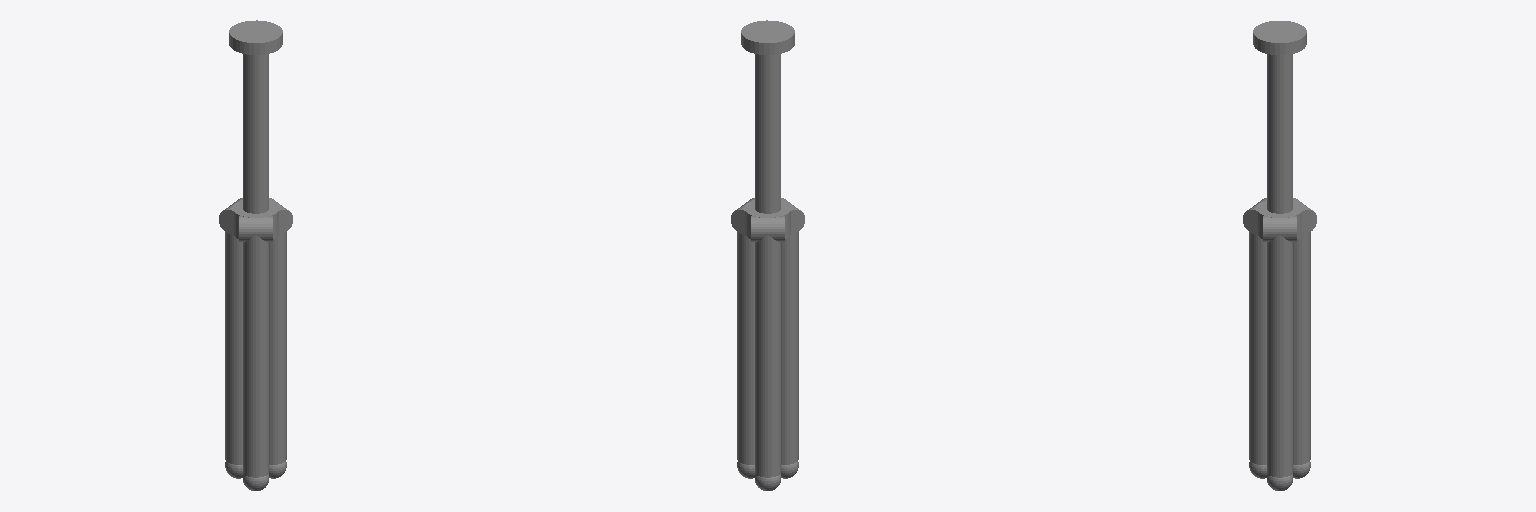
The robot description file, URDF, robot "tripod":
<?xml version="1.0"?>
<robot name="tripod">

  <!-- Base -->
  <link name="base_link">
    <visual>
      <geometry>
        <cylinder length="0.04" radius="0.035"/>
      </geometry>
      <origin xyz="0 0 0" rpy="0 0 0"/>
      <material name="gray">
        <color rgba="0.6 0.6 0.6 1"/>
      </material>
    </visual>
    <collision>
      <geometry>
        <cylinder length="0.04" radius="0.035"/>
      </geometry>
      <origin xyz="0 0 0" rpy="0 0 0"/>
    </collision>
  </link>

  <link name="aux_link">
    <visual>
      <geometry>
        <cylinder length="0.3" radius="0.02"/>
      </geometry>
      <origin xyz="0 0 0.15" rpy="0 0 0"/>
      <material name="gray"/>
    </visual>
  </link>

  <joint name="aux_link_joint" type="fixed">
    <parent link="base_link"/>
    <child link="aux_link"/>
    <origin xyz="0 0 0" rpy="0 0 0"/>
  </joint>

  <link name="aux_link1">
    <visual>
      <geometry>
        <cylinder length="0.02" radius="0.04"/>
      </geometry>
      <origin xyz="0 0 0.3" rpy="0 0 0"/>
      <material name="gray"/>
    </visual>
  </link>

  <joint name="aux_link_joint1" type="fixed">
    <parent link="aux_link"/>
    <child link="aux_link1"/>
    <origin xyz="0 0 0" rpy="0 0 0"/>
  </joint>

  <!-- ========= LEG 1 ========= -->
  <link name="leg1_joint_base">
    <visual>
      <geometry>
        <cylinder length="0.05" radius="0.02"/>
      </geometry>
      <origin xyz="0 0 0" rpy="1.57 0 0"/>
      <material name="gray"/>
    </visual>
  </link>

  <joint name="leg1_joint" type="revolute">
    <parent link="base_link"/>
    <child link="leg1_joint_base"/>
    <origin xyz="0.03 0 0" rpy="0 0 3.1415"/>
    <axis xyz="0 1 0"/>
    <limit effort="1" velocity="1" lower="0" upper="1.0"/>
  </joint>

  <link name="leg1_outer">
    <visual>
      <geometry>
        <cylinder length="0.4" radius="0.02"/>
      </geometry>
      <origin xyz="0 0 -0.2" rpy="0 0 0"/>
      <material name="gray"/>
    </visual>
  </link>

  <joint name="leg1_outer_fixed" type="fixed">
    <parent link="leg1_joint_base"/>
    <child link="leg1_outer"/>
    <origin xyz="0 0 0" rpy="0 0 0"/>
  </joint>

  <link name="leg1_link">
    <visual>
      <geometry>
        <cylinder length="0.4" radius="0.015"/>
      </geometry>
      <origin xyz="0 0 -0.2" rpy="0 0 0"/>
      <material name="gray"/>
    </visual>
  </link>

  <joint name="leg1_slide" type="prismatic">
    <parent link="leg1_joint_base"/>
    <child link="leg1_link"/>
    <origin xyz="0 0 0" rpy="0 0 0"/>
    <axis xyz="0 0 -1"/>
    <limit effort="10" velocity="0.2" lower="0.0" upper="0.4"/>
  </joint>

  <link name="leg1_tip">
    <visual>
      <geometry>
        <sphere radius="0.02"/>
      </geometry>
      <origin xyz="0 0 -0.2" rpy="0 0 0"/>
      <material name="gray"/>
    </visual>
    <collision>
      <geometry>
        <sphere radius="0.02"/>
      </geometry>
      <origin xyz="0 0 -0.2" rpy="0 0 0"/>
    </collision>
  </link>

  <joint name="leg1_tip_fixed" type="fixed">
    <parent link="leg1_link"/>
    <child link="leg1_tip"/>
    <origin xyz="0 0 -0.21" rpy="0 0 0"/>
  </joint>

  <!-- ========= LEG 2 ========= -->
  <link name="leg2_joint_base">
    <visual>
      <geometry>
        <cylinder length="0.05" radius="0.02"/>
      </geometry>
      <origin xyz="0 0 0" rpy="1.57 0 0"/>
      <material name="gray"/>
    </visual>
  </link>

  <joint name="leg2_joint" type="revolute">
    <parent link="base_link"/>
    <child link="leg2_joint_base"/>
    <origin xyz="-0.015 0.026 0" rpy="0 0 -1.0472"/>
    <axis xyz="0 1 0"/>
    <limit effort="1" velocity="1" lower="0.0" upper="1.0"/>
  </joint>

  <link name="leg2_outer">
    <visual>
      <geometry>
        <cylinder length="0.4" radius="0.02"/>
      </geometry>
      <origin xyz="0 0 -0.2" rpy="0 0 0"/>
      <material name="gray"/>
    </visual>
  </link>

  <joint name="leg2_outer_fixed" type="fixed">
    <parent link="leg2_joint_base"/>
    <child link="leg2_outer"/>
    <origin xyz="0 0 0" rpy="0 0 0"/>
  </joint>

  <link name="leg2_link">
    <visual>
      <geometry>
        <cylinder length="0.4" radius="0.015"/>
      </geometry>
      <origin xyz="0 0 -0.2" rpy="0 0 0"/>
      <material name="gray"/>
    </visual>
  </link>

  <joint name="leg2_slide" type="prismatic">
    <parent link="leg2_joint_base"/>
    <child link="leg2_link"/>
    <origin xyz="0 0 0" rpy="0 0 0"/>
    <axis xyz="0 0 -1"/>
    <limit effort="10" velocity="0.2" lower="0.0" upper="0.4"/>
  </joint>

  <link name="leg2_tip">
    <visual>
      <geometry>
        <sphere radius="0.02"/>
      </geometry>
      <origin xyz="0 0 -0.2" rpy="0 0 0"/>
      <material name="gray"/>
    </visual>
    <collision>
      <geometry>
        <sphere radius="0.02"/>
      </geometry>
      <origin xyz="0 0 -0.2" rpy="0 0 0"/>
    </collision>
  </link>

  <joint name="leg2_tip_fixed" type="fixed">
    <parent link="leg2_link"/>
    <child link="leg2_tip"/>
    <origin xyz="0 0 -0.21" rpy="0 0 0"/>
  </joint>

  <!-- ========= LEG 3 ========= -->
  <link name="leg3_joint_base">
    <visual>
      <geometry>
        <cylinder length="0.05" radius="0.02"/>
      </geometry>
      <origin xyz="0 0 0" rpy="1.57 0 0"/>
      <material name="gray"/>
    </visual>
  </link>

  <joint name="leg3_joint" type="revolute">
    <parent link="base_link"/>
    <child link="leg3_joint_base"/>
    <origin xyz="-0.015 -0.026 0" rpy="0 0 1.0472"/>
    <axis xyz="0 1 0"/>
    <limit effort="1" velocity="1" lower="0" upper="1.0"/>
  </joint>

  <link name="leg3_outer">
    <visual>
      <geometry>
        <cylinder length="0.4" radius="0.02"/>
      </geometry>
      <origin xyz="0 0 -0.2" rpy="0 0 0"/>
      <material name="gray"/>
    </visual>
  </link>

  <joint name="leg3_outer_fixed" type="fixed">
    <parent link="leg3_joint_base"/>
    <child link="leg3_outer"/>
    <origin xyz="0 0 0" rpy="0 0 0"/>
  </joint>

  <link name="leg3_link">
    <visual>
      <geometry>
        <cylinder length="0.4" radius="0.015"/>
      </geometry>
      <origin xyz="0 0 -0.2" rpy="0 0 0"/>
      <material name="gray"/>
    </visual>
  </link>

  <joint name="leg3_slide" type="prismatic">
    <parent link="leg3_joint_base"/>
    <child link="leg3_link"/>
    <origin xyz="0 0 0" rpy="0 0 0"/>
    <axis xyz="0 0 -1"/>
    <limit effort="10" velocity="0.2" lower="0.0" upper="0.4"/>
  </joint>

  <link name="leg3_tip">
    <visual>
      <geometry>
        <sphere radius="0.02"/>
      </geometry>
      <origin xyz="0 0 -0.2" rpy="0 0 0"/>
      <material name="gray"/>
    </visual>
    <collision>
      <geometry>
        <sphere radius="0.02"/>
      </geometry>
      <origin xyz="0 0 -0.2" rpy="0 0 0"/>
    </collision>
  </link>

  <joint name="leg3_tip_fixed" type="fixed">
    <parent link="leg3_link"/>
    <child link="leg3_tip"/>
    <origin xyz="0 0 -0.21" rpy="0 0 0"/>
  </joint>

</robot>

--- Render facts (derived) ---
3 views of the same robot in one strip: view 1: azimuth 30°, elevation 25°; view 2: azimuth 150°, elevation 25°; view 3: azimuth 270°, elevation 25° (orthographic).
Model tripod with 15 links and 14 joints (3 revolute, 3 prismatic, 8 fixed), rooted at base_link, posed all joints at 0.
Visible links, largest first — view 1: leg3_outer, aux_link, leg1_outer, leg2_outer, aux_link1, leg3_joint_base, base_link; view 2: leg2_outer, aux_link, leg1_outer, leg3_outer, aux_link1, leg2_joint_base, base_link; view 3: leg1_outer, aux_link, leg2_outer, leg3_outer, aux_link1, leg1_joint_base, base_link.
Boxes of the visible links, bbox=[...] form: leg3_outer: bbox=[243, 235, 268, 477]; aux_link: bbox=[243, 54, 268, 213]; leg1_outer: bbox=[269, 232, 286, 464]; leg2_outer: bbox=[225, 232, 242, 464]; aux_link1: bbox=[229, 20, 282, 54]; leg3_joint_base: bbox=[239, 216, 272, 241]; base_link: bbox=[233, 200, 278, 238]; leg2_outer: bbox=[755, 235, 780, 477]; aux_link: bbox=[755, 54, 780, 213]; leg1_outer: bbox=[737, 232, 754, 464]; leg3_outer: bbox=[781, 232, 798, 464]; aux_link1: bbox=[741, 20, 794, 54]; leg2_joint_base: bbox=[751, 216, 784, 241]; base_link: bbox=[745, 200, 790, 238]; leg1_outer: bbox=[1267, 235, 1292, 477]; aux_link: bbox=[1267, 54, 1292, 213]; leg2_outer: bbox=[1293, 232, 1310, 464]; leg3_outer: bbox=[1249, 232, 1266, 464]; aux_link1: bbox=[1253, 21, 1306, 54]; leg1_joint_base: bbox=[1263, 216, 1296, 241]; base_link: bbox=[1257, 200, 1302, 238].
Size in the robot's own frame: 0.0967 by 0.1116 by 0.74 metres.
Geometry: primitives only (box / cylinder / sphere), no mesh files.